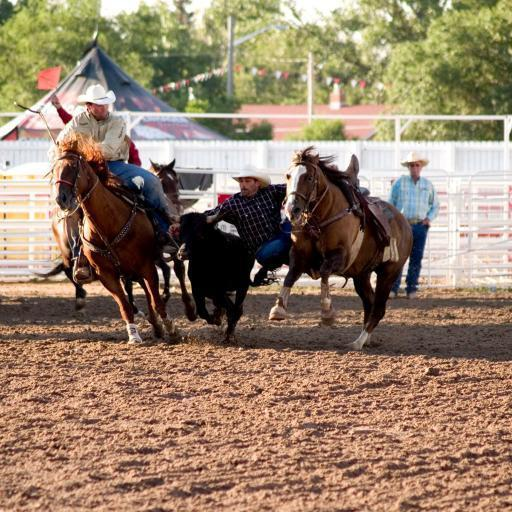horse: (270, 144, 414, 352), (44, 129, 181, 346), (31, 158, 186, 318)
